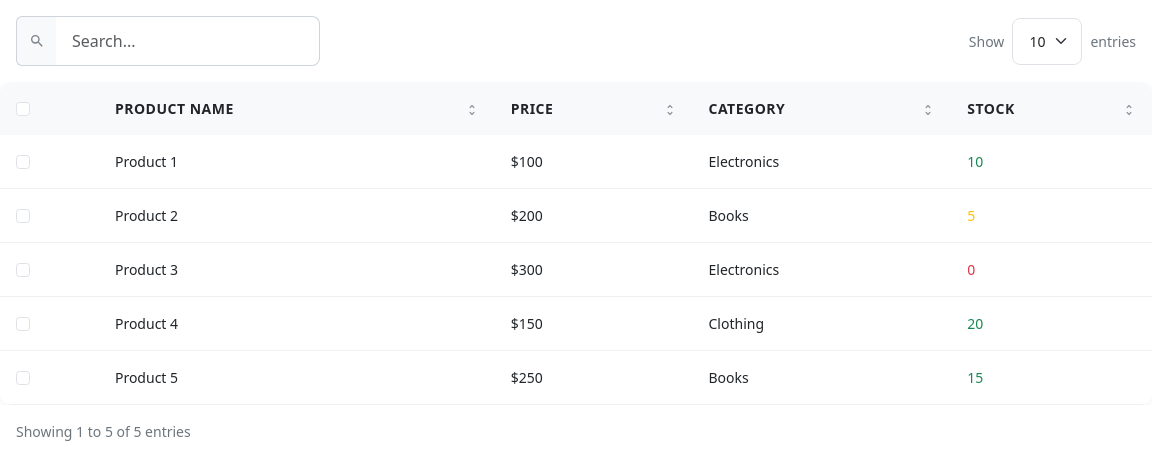
Test: DataTable Component › Row Selection › should show selected count
The width and height of the screenshot is (1152, 458).
# Select first row
Click the checkbox next to "Product 1" at (23, 162), box [16,154,30,168]
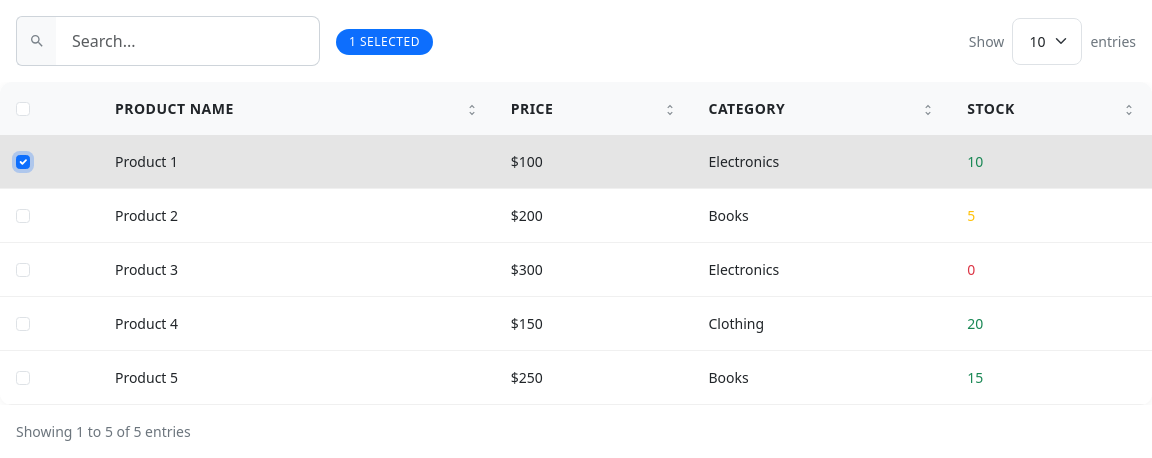
Expected: the text "1 selected" is shown, [336,28,433,54]
